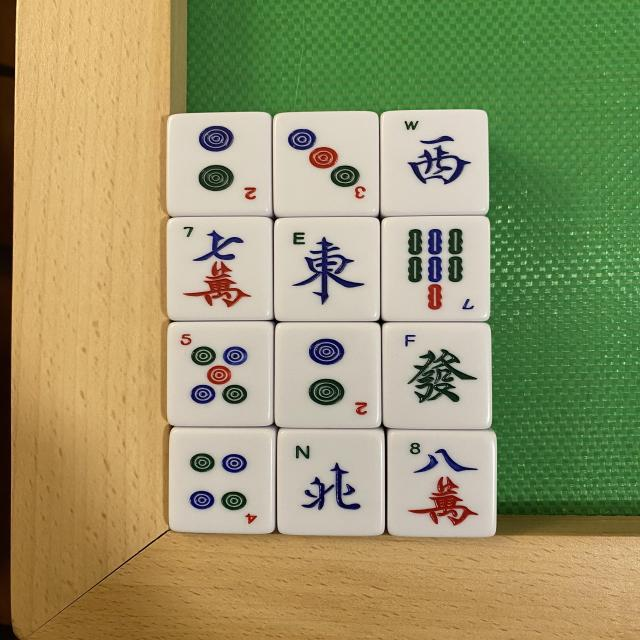hdg: (382, 322, 490, 430)
hwe: (277, 218, 382, 324)
hwn: (279, 431, 386, 536)
hww: (382, 111, 487, 215)
sb7: (383, 218, 486, 326)
sc7: (167, 215, 272, 318)
sc8: (388, 434, 496, 542)
sd2: (281, 327, 386, 433), (170, 113, 268, 214)
sd3: (272, 111, 374, 214)
sd4: (171, 432, 272, 530)
sd5: (172, 324, 277, 430)
